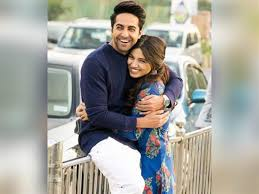Bad: (78, 1, 182, 193)
